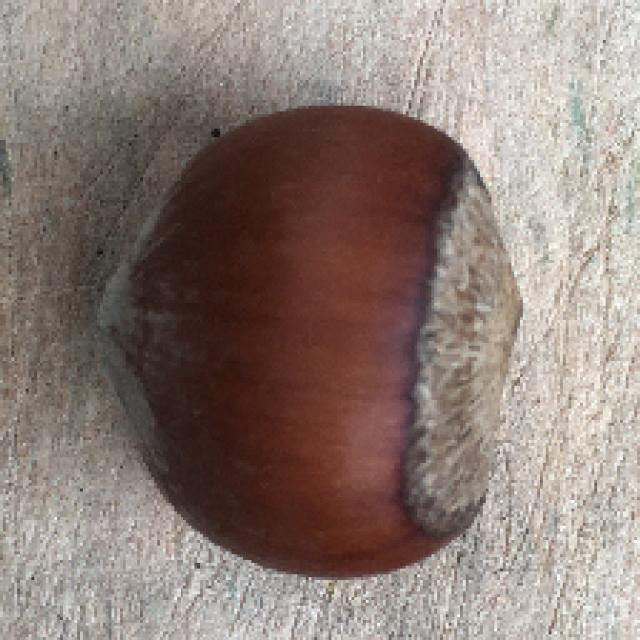qualityHazelnut: (94, 92, 524, 584)
